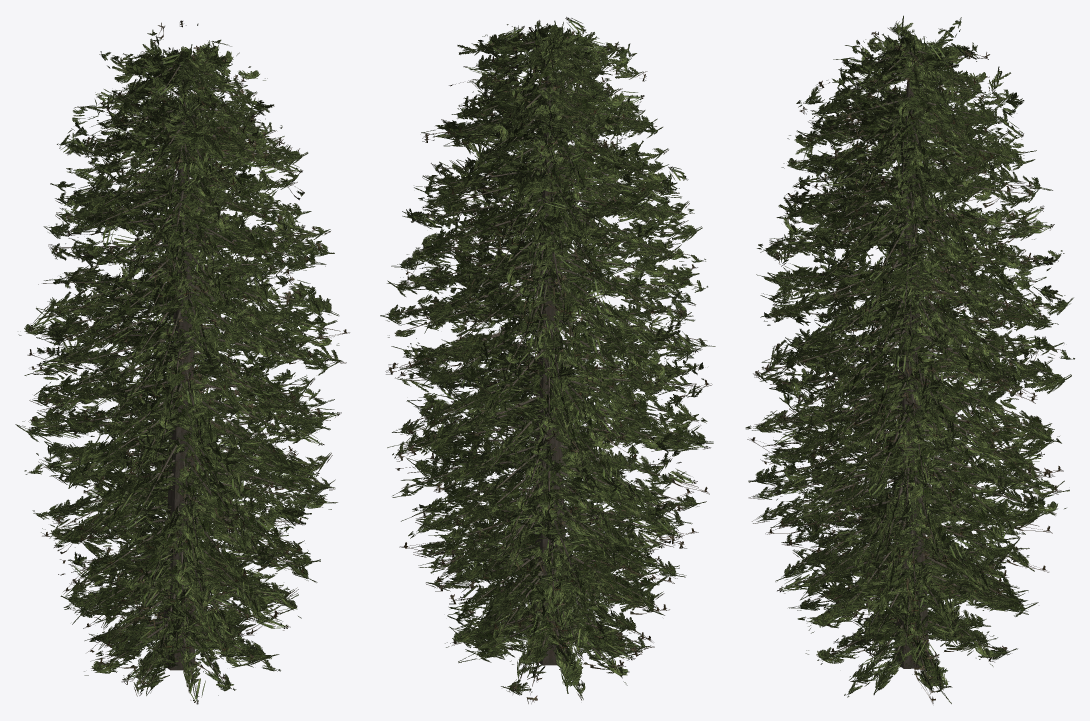
File: conifer_v5_lod0.glb
3 renders of one model, left to right at view 1: azimuth 30°, elevation 25°; view 2: azimuth 150°, elevation 25°; view 3: azimuth 270°, elevation 25°, orthographic. The views are drawn at different scales.
Visible parts, largest first — view 1: conifer_v5_lod0; view 2: conifer_v5_lod0; view 3: conifer_v5_lod0.
Boxes of the visible parts, x1=… form: conifer_v5_lod0: x1=15, y1=20, x2=349, y2=704; conifer_v5_lod0: x1=380, y1=17, x2=715, y2=703; conifer_v5_lod0: x1=745, y1=15, x2=1074, y2=703.
Bounding box in the file's own units: 8.95 × 18.9 × 8.76.
Materials: 1 (1 with a texture image).
